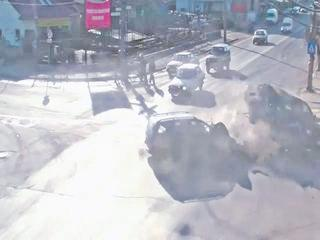Car: (253, 85, 319, 143), (146, 114, 229, 160), (170, 65, 204, 97), (166, 51, 198, 78), (206, 43, 232, 73), (252, 29, 268, 45), (266, 8, 278, 24), (281, 20, 293, 30)
Major Accident: (146, 84, 318, 161)
